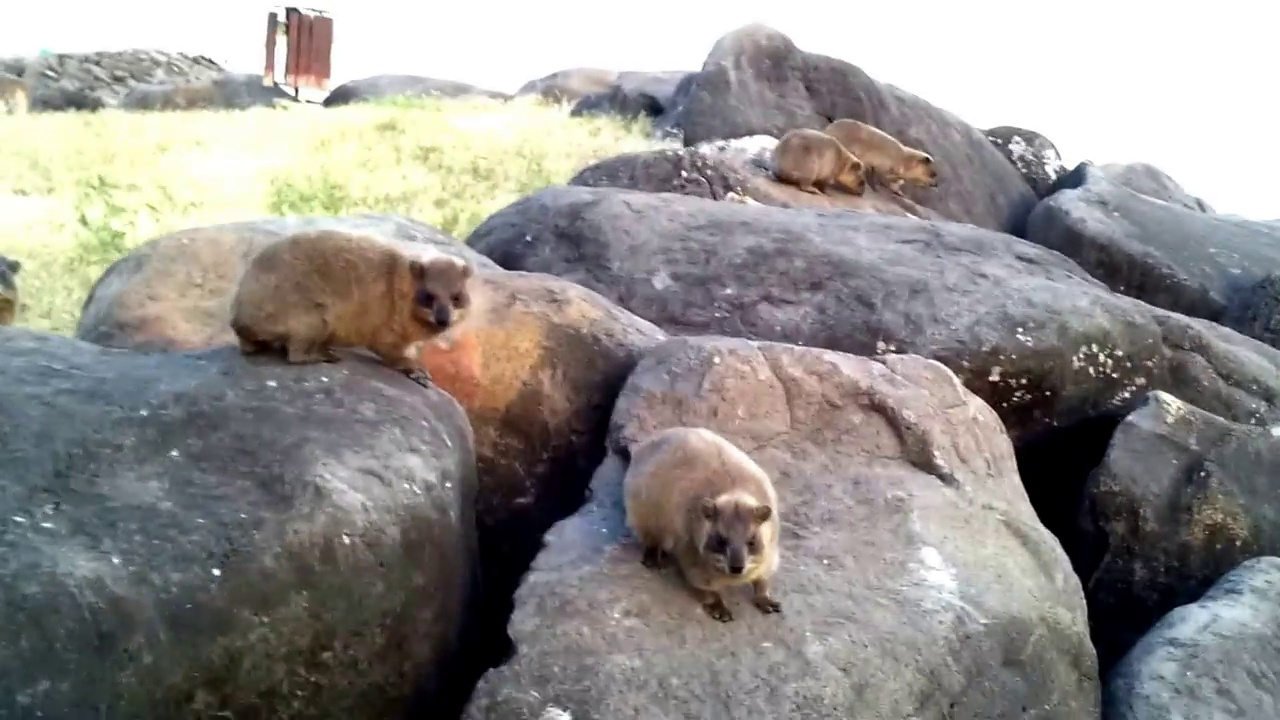Rock Hyrex: (225, 220, 478, 396), (624, 422, 789, 630), (821, 117, 940, 199), (774, 126, 866, 201)
